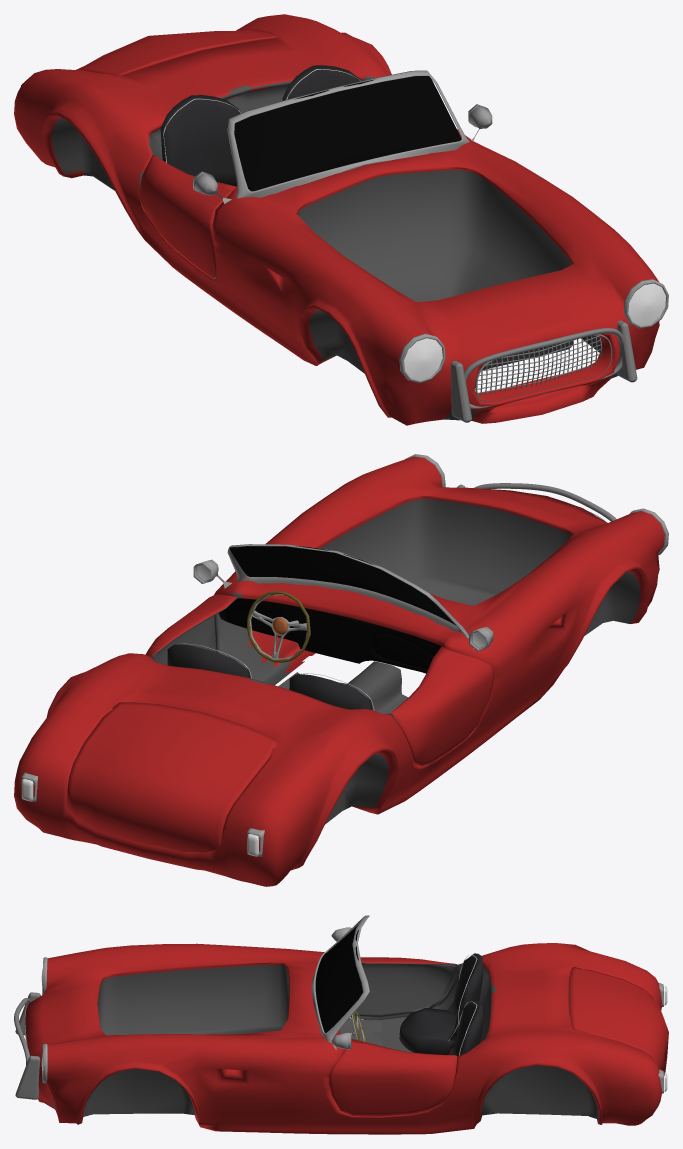
3 views of the same model, one above another, from view 1: azimuth 30°, elevation 25°; view 2: azimuth 150°, elevation 25°; view 3: azimuth 270°, elevation 25° (orthographic). The views are drawn at different scales.
Parts seen in each view (by area): view 1: Carosserie, Carosserie .005, Plane.001, Portes, Coffre, Carosserie .004, Carosserie .002, Cylinder.001, Circle.017, Carosserie .017, Circle.009; view 2: Carosserie, Coffre, Portes, Carosserie .003, Carosserie .005, Plane.001, Carosserie .004, Circle.013, Circle.009, Carosserie .017, Cube.002; view 3: Carosserie, Portes, Coffre, Plane.001, Carosserie .005, Carosserie .004, Circle.017, Circle.009, Carosserie .002, Carosserie .017.
Boxes of the visible parts, x1,y1,x2,y2 form: Carosserie: [14, 14, 659, 425]; Carosserie .005: [234, 76, 461, 191]; Plane.001: [160, 65, 361, 186]; Portes: [138, 129, 471, 278]; Coffre: [76, 29, 277, 75]; Carosserie .004: [227, 70, 469, 198]; Carosserie .002: [399, 279, 668, 383]; Cylinder.001: [474, 335, 602, 395]; Circle.017: [450, 320, 637, 422]; Carosserie .017: [464, 328, 623, 408]; Circle.009: [193, 104, 492, 203]; Carosserie: [14, 456, 664, 886]; Coffre: [67, 702, 277, 852]; Portes: [145, 594, 494, 766]; Carosserie .003: [218, 598, 441, 673]; Carosserie .005: [230, 546, 455, 625]; Plane.001: [167, 644, 372, 709]; Carosserie .004: [227, 544, 468, 638]; Circle.013: [247, 591, 310, 662]; Circle.009: [193, 559, 493, 651]; Carosserie .017: [474, 483, 616, 521]; Cube.002: [21, 772, 264, 856]; Carosserie: [25, 943, 662, 1134]; Portes: [329, 957, 457, 1116]; Coffre: [569, 967, 668, 1075]; Plane.001: [399, 953, 482, 1056]; Carosserie .005: [315, 925, 362, 1032]; Carosserie .004: [311, 915, 369, 1042]; Circle.017: [15, 992, 40, 1099]; Circle.009: [331, 927, 351, 1050]; Carosserie .002: [41, 957, 47, 1083]; Carosserie .017: [14, 998, 30, 1063].
Bounding box in the file's own units: 216 × 126 × 509.
